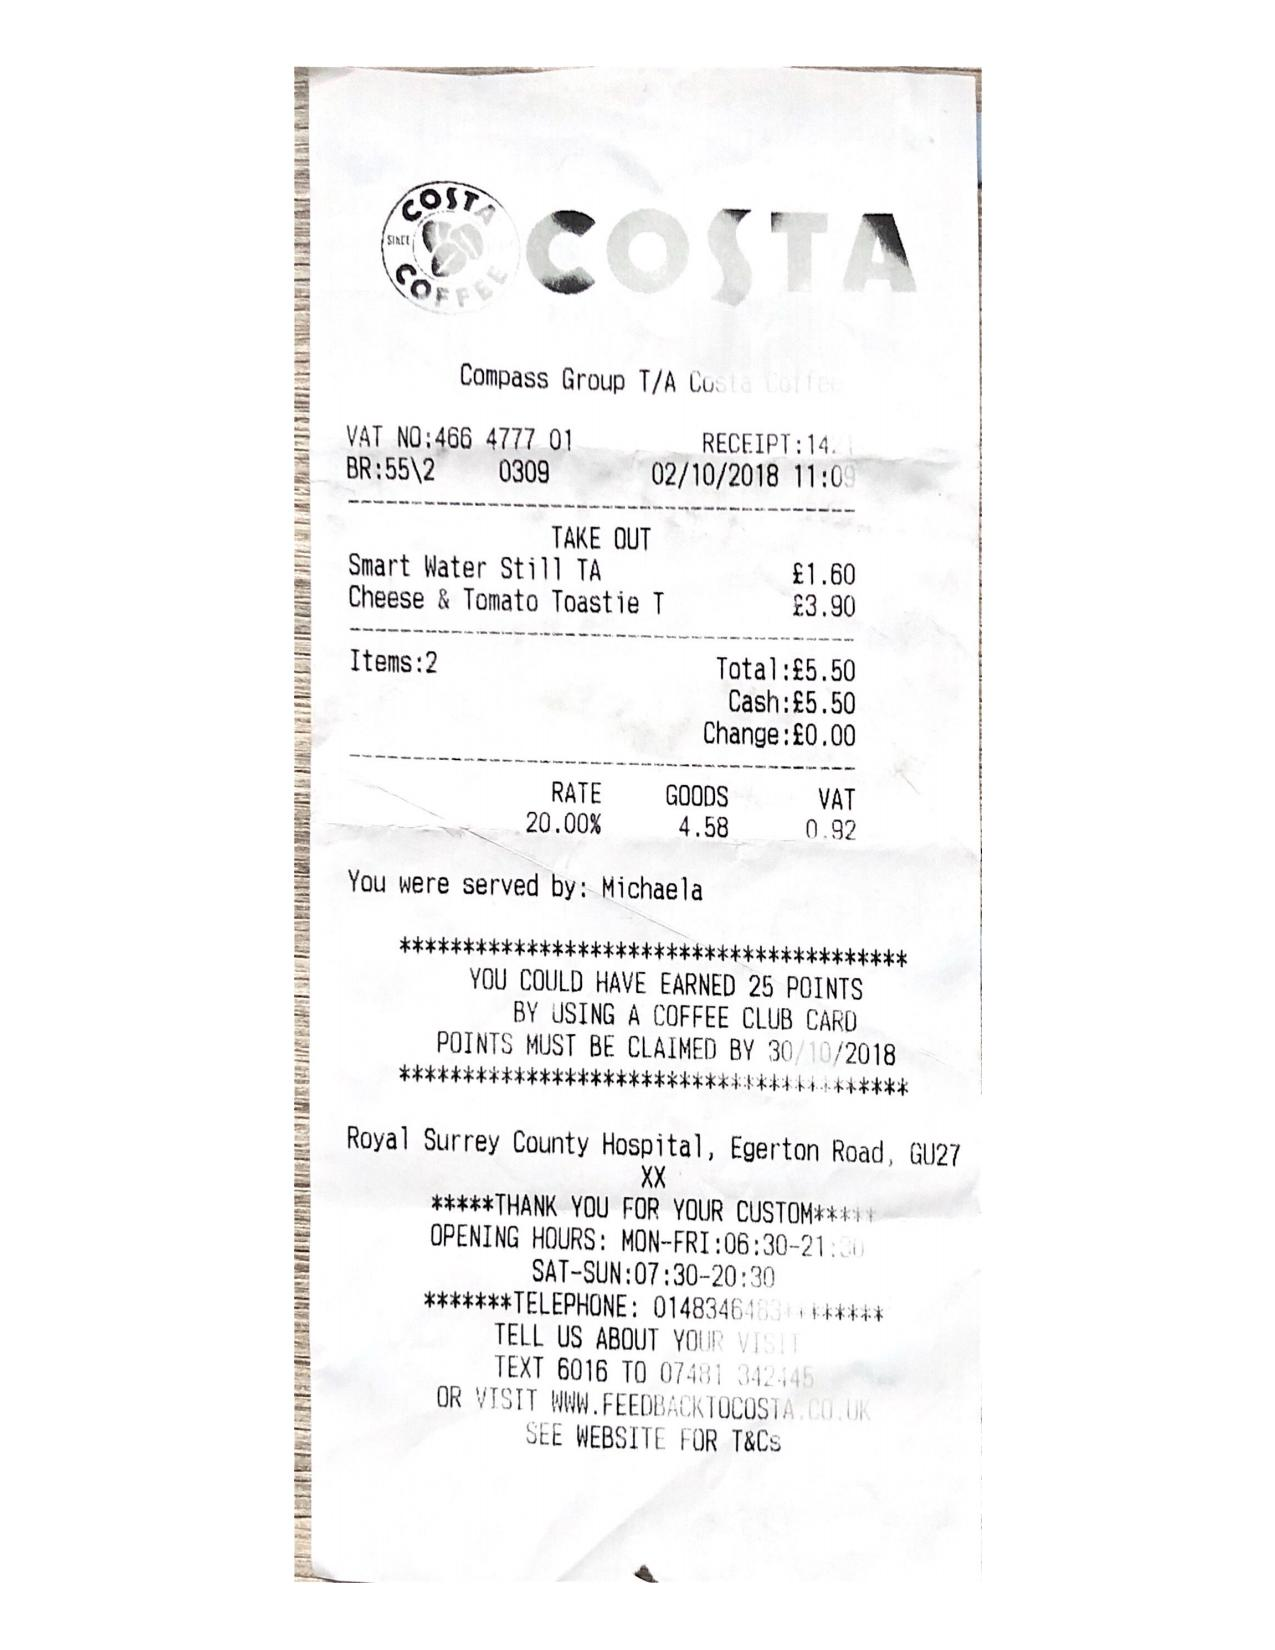Amount: (762, 633, 915, 691)
Date: (636, 457, 796, 504)
company_name: (542, 206, 909, 299)
